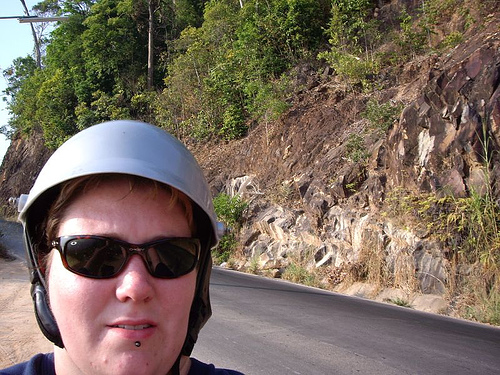helmet: (9, 121, 219, 240)
